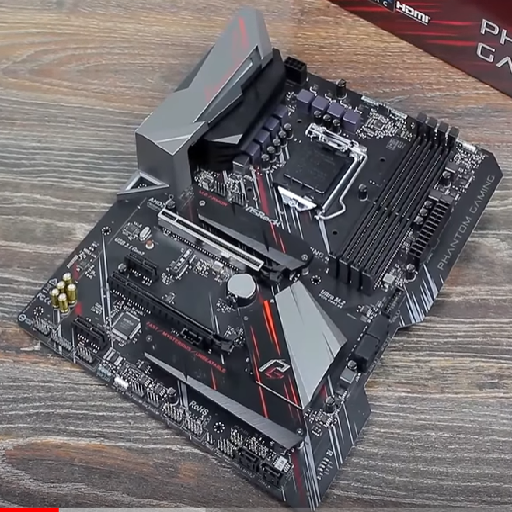CPU: (266, 116, 370, 224)
GPU: (108, 270, 244, 370), (151, 203, 284, 288)
MOTHERBOARD: (13, 9, 501, 507)
RAM: (327, 109, 461, 298)
SSD: (163, 240, 200, 282)
